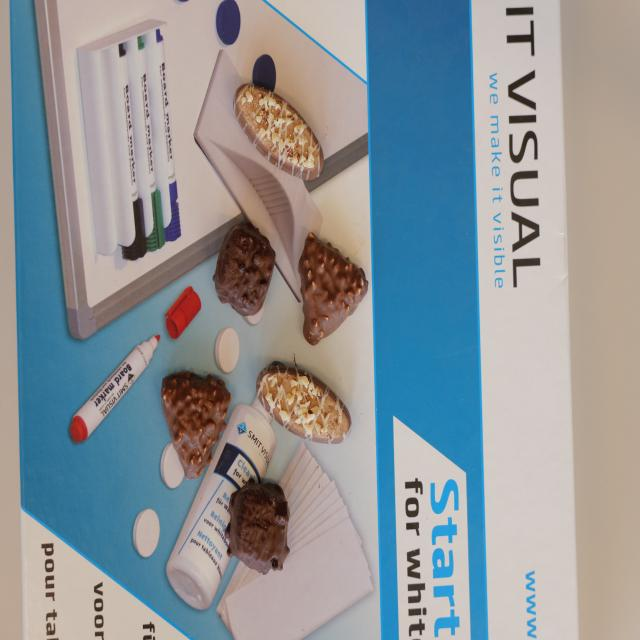Amandina: (235, 80, 327, 184), (256, 358, 353, 446)
Tentation_noir: (214, 219, 277, 319), (230, 477, 290, 574)
Triangolo: (162, 370, 233, 478), (301, 232, 369, 344)
